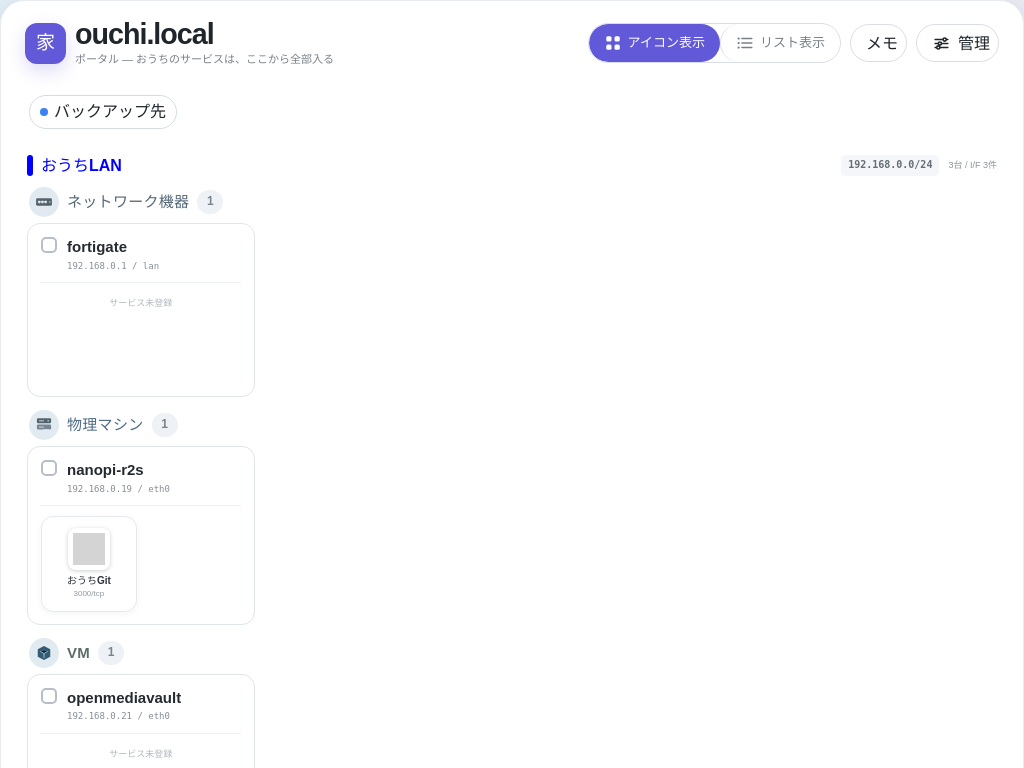
Test case: OuchiPortal › uses a relation-name selector in the shared relation editor
Click the button "管理": click(958, 43) left=916, top=24, right=999, bottom=62
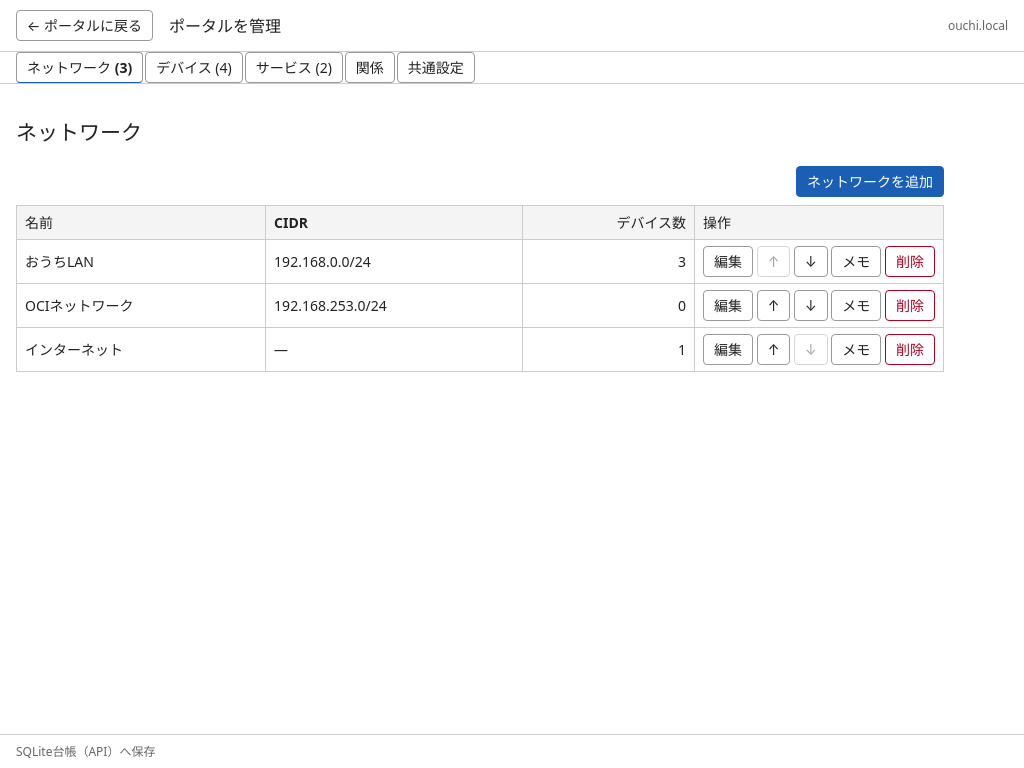
Click the tab "関係": click(370, 68) left=345, top=52, right=395, bottom=83
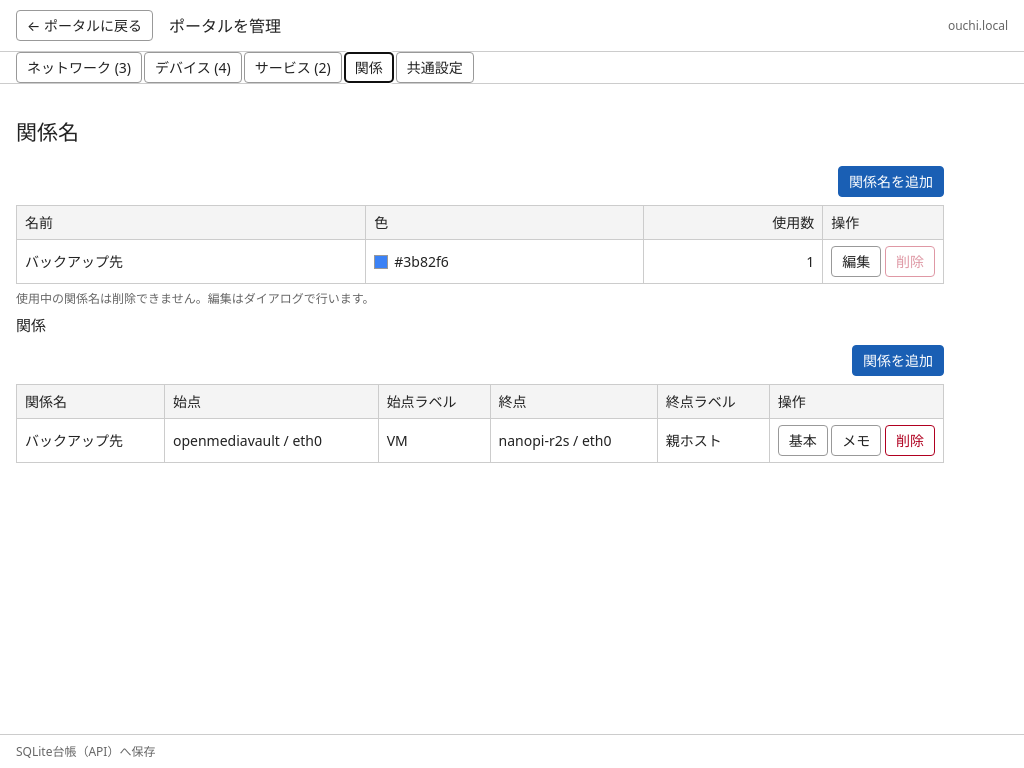
Click the button with aria-label "openmediavault / eth0からnanopi-r2s / eth0への関係を編集": click(803, 440) left=778, top=425, right=828, bottom=456
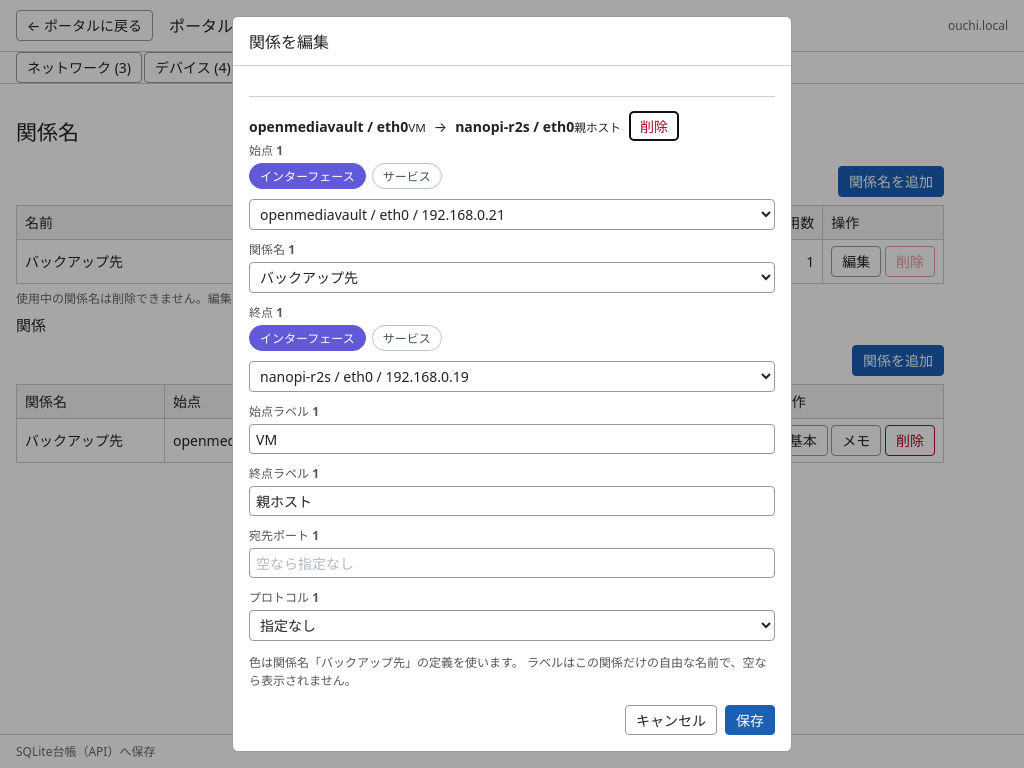
Expected: the dropdown labelled "関係名 1" shows "バックアップ先", left=249, top=262, right=775, bottom=293
Expected: the text "色は関係名「バックアップ先」の定義を使います。 ラベルはこの関係だけの自由な名前で、空なら表示されません。" is shown, left=249, top=653, right=775, bottom=689
Expected: the element with class "ouchi-relation-row-route" shows "openmediavault", left=249, top=116, right=408, bottom=136
